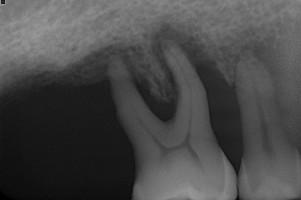Dental Caries: (61, 22, 234, 121)
